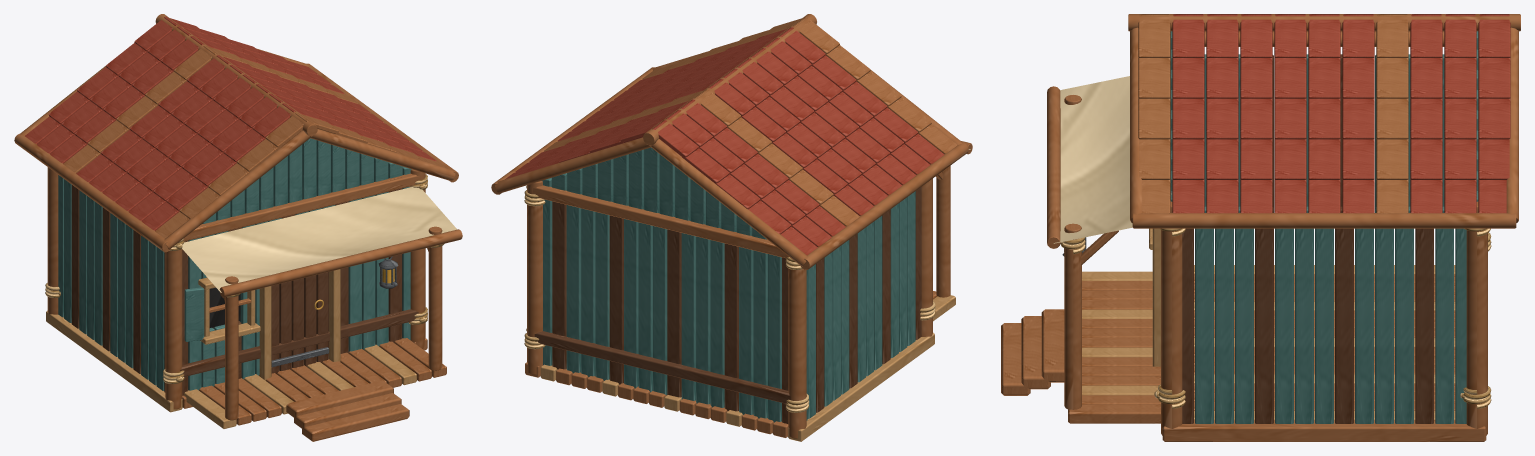
Rendered from SM_CommandHut.glb.
The picture shows the model from 3 angles, left to right: view 1: azimuth 30°, elevation 25°; view 2: azimuth 150°, elevation 25°; view 3: azimuth 270°, elevation 25°; orthographic projection. The views are drawn at different scales.
Parts seen in each view (by area): view 1: SM_CommandHut; view 2: SM_CommandHut; view 3: SM_CommandHut.
Boxes of the visible parts, bbox=[...] form: SM_CommandHut: bbox=[14, 14, 462, 441]; SM_CommandHut: bbox=[491, 14, 972, 441]; SM_CommandHut: bbox=[1001, 14, 1520, 441].
Size of the model in its own units: 4.82 by 4.2 by 5.62.
Materials: 1 (1 with a texture image).
